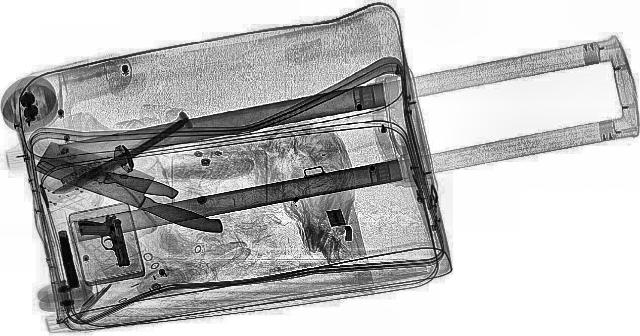Gun: (74, 215, 130, 267), (52, 230, 82, 288)
Knife: (9, 140, 260, 238), (48, 115, 200, 197), (19, 146, 183, 200)
